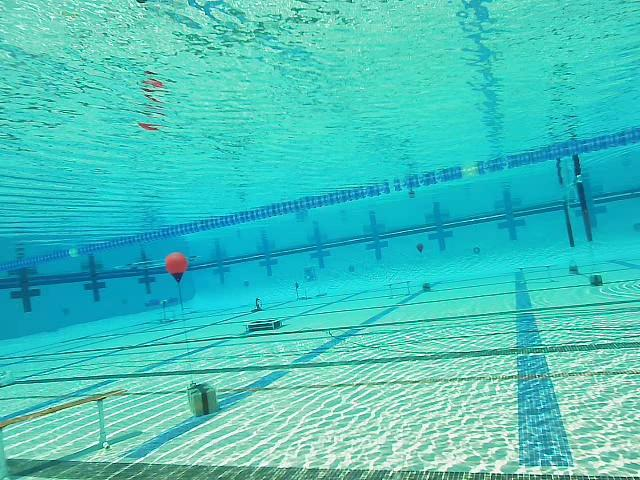buoy: (165, 252, 187, 284)
